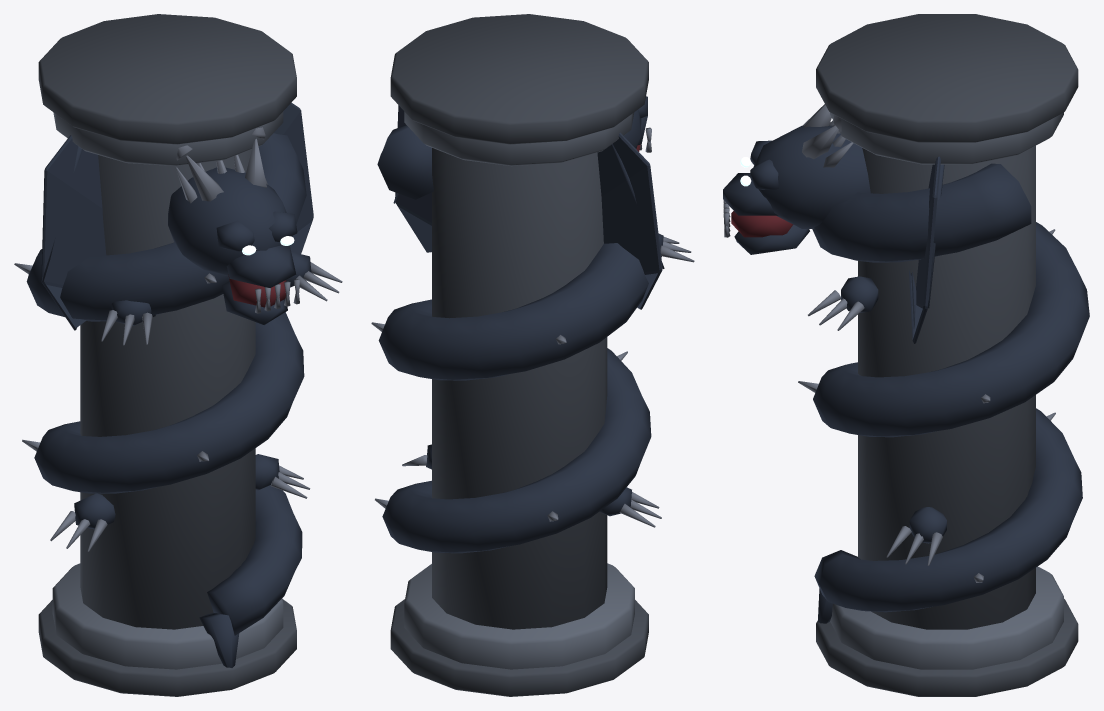
Rendered from dragon-column.glb.
3 renders of one model, left to right at view 1: azimuth 30°, elevation 25°; view 2: azimuth 150°, elevation 25°; view 3: azimuth 270°, elevation 25°, orthographic.
Parts seen in each view (by area): view 1: Stone, DragonScale, StoneEdge, HornClaw, Mouth; view 2: Stone, DragonScale, StoneEdge, HornClaw; view 3: Stone, DragonScale, StoneEdge, HornClaw, Mouth.
Boxes of the visible parts, box(x1,y1,x2,y2) form: Stone: box(38, 14, 296, 696); DragonScale: box(26, 102, 313, 667); StoneEdge: box(52, 111, 283, 669); HornClaw: box(14, 127, 342, 551); Mouth: box(228, 274, 286, 307); Stone: box(390, 14, 648, 696); DragonScale: box(377, 96, 664, 553); StoneEdge: box(404, 111, 634, 669); HornClaw: box(371, 127, 694, 527); Stone: box(816, 14, 1078, 696); DragonScale: box(723, 125, 1089, 623); StoneEdge: box(830, 112, 1063, 669); HornClaw: box(723, 104, 1055, 582); Mouth: box(731, 211, 793, 237).
Size of the model in its own units: 1.01 by 2.04 by 1.18.
